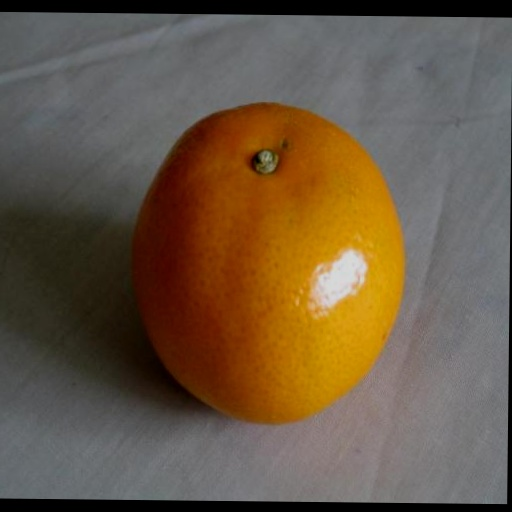fruit: (133, 104, 404, 423)
